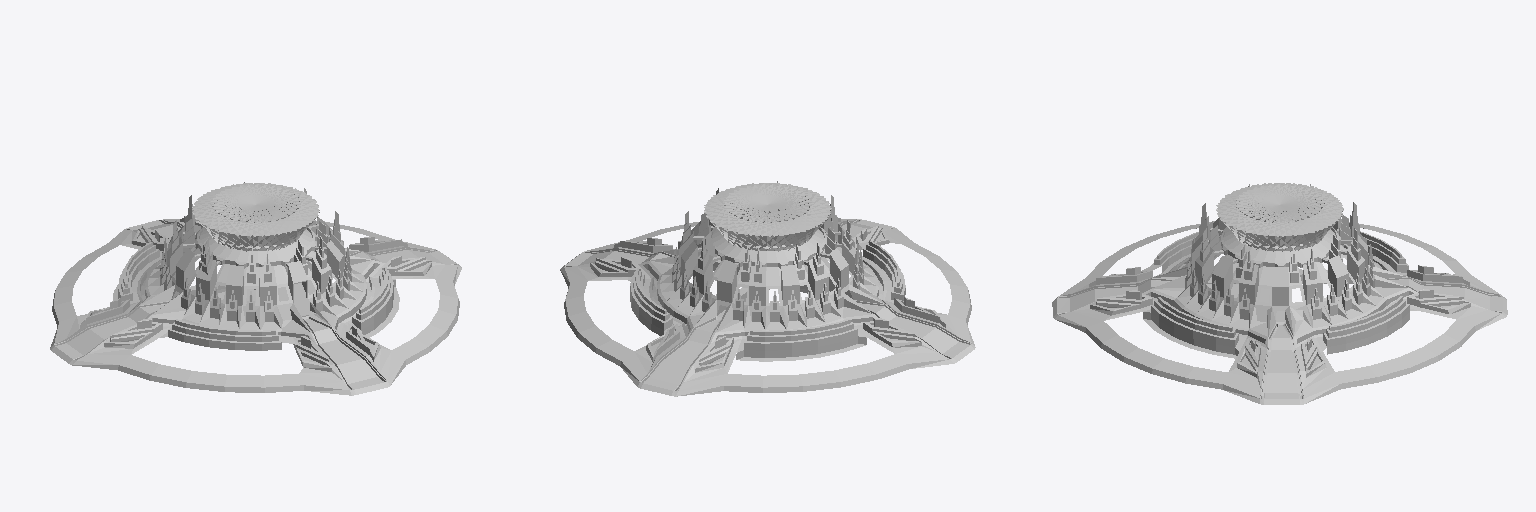
Rendered from temple.obj.
3 views of the same model, side by side, from view 1: azimuth 30°, elevation 25°; view 2: azimuth 150°, elevation 25°; view 3: azimuth 270°, elevation 25° (orthographic).
Visible parts, largest first — view 1: Temple; view 2: Temple; view 3: Temple.
Part boxes in pixels (x1,y1,x2,y2): Temple: (50,182,461,395); Temple: (560,181,975,396); Temple: (1052,183,1507,404).
Size of the model in its own units: 42.69 by 10.95 by 42.68.